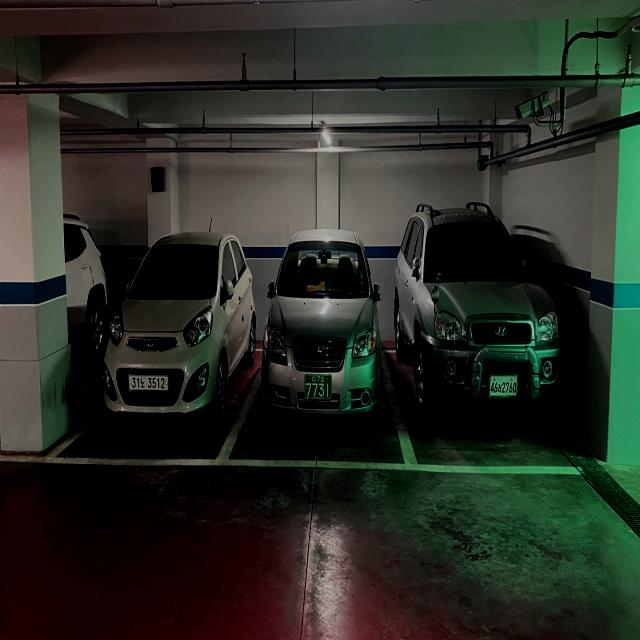occupied: (393, 201, 574, 445), (106, 227, 238, 426), (257, 232, 383, 425)
